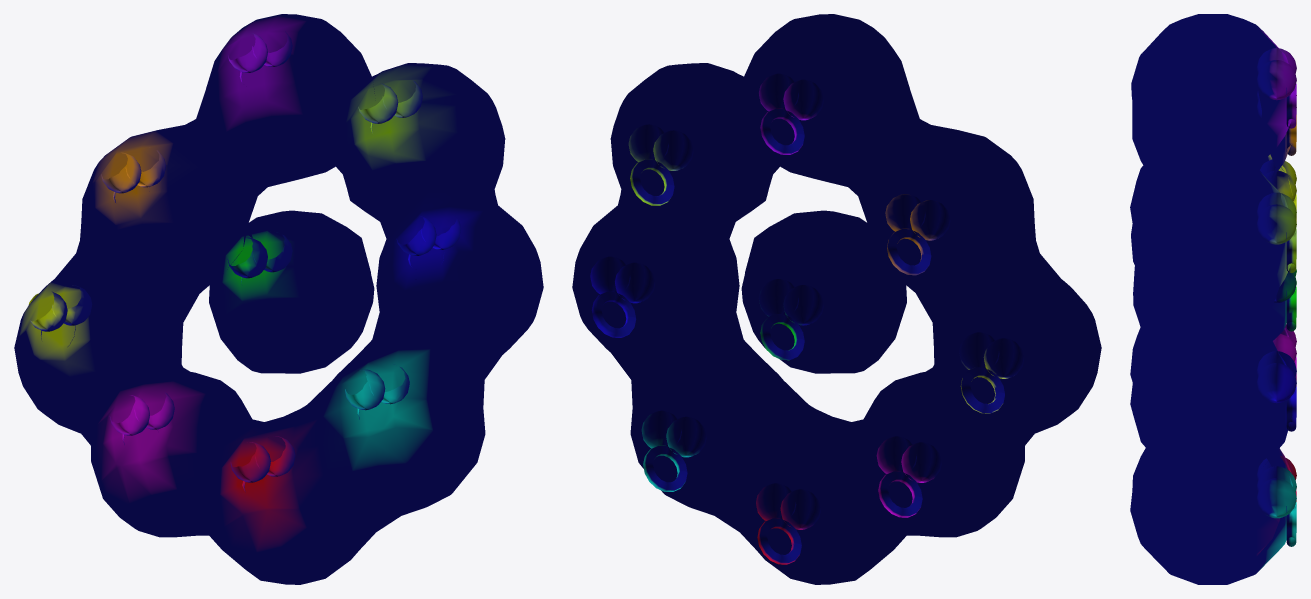
The model's file is deltaforce.glb.
The picture shows the model from 3 angles, left to right: view 1: azimuth 30°, elevation 25°; view 2: azimuth 150°, elevation 25°; view 3: azimuth 270°, elevation 25°; orthographic projection.
Visible parts, largest first — view 1: Deltaforce; view 2: Deltaforce; view 3: Deltaforce.
Part boxes in pixels (x1,y1,x2,y2): Deltaforce: (14, 14, 543, 584); Deltaforce: (572, 14, 1101, 584); Deltaforce: (1130, 14, 1296, 584).
Size of the model in its own units: 1.45 by 1.52 by 0.4207.
